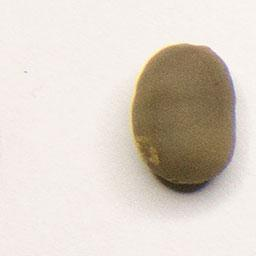peaberry: (130, 39, 240, 189)
